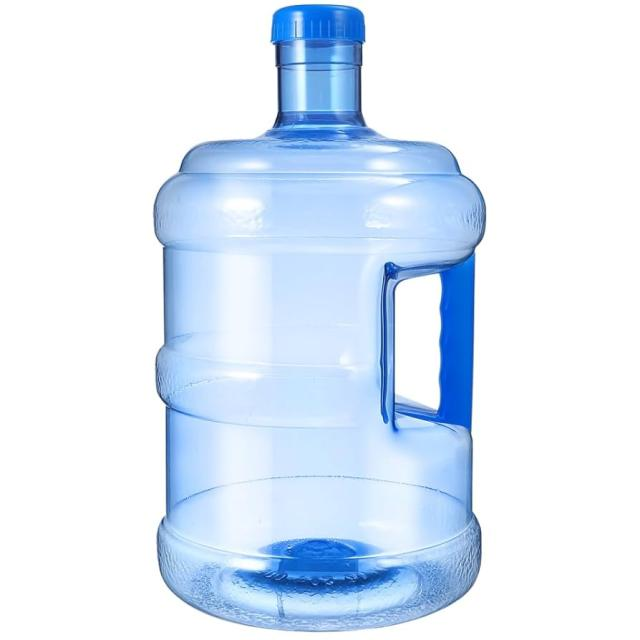plastic bottle: (66, 0, 534, 633)
